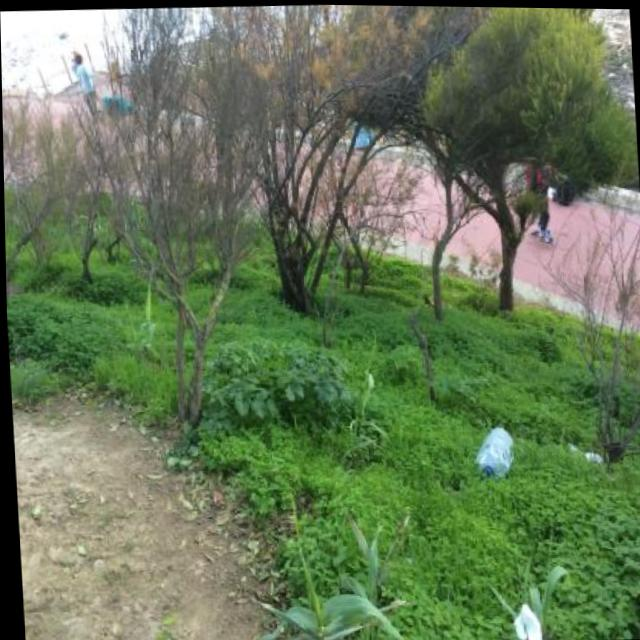plastic: (473, 426, 516, 482)
